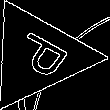P_SE: (3, 27, 73, 85)
